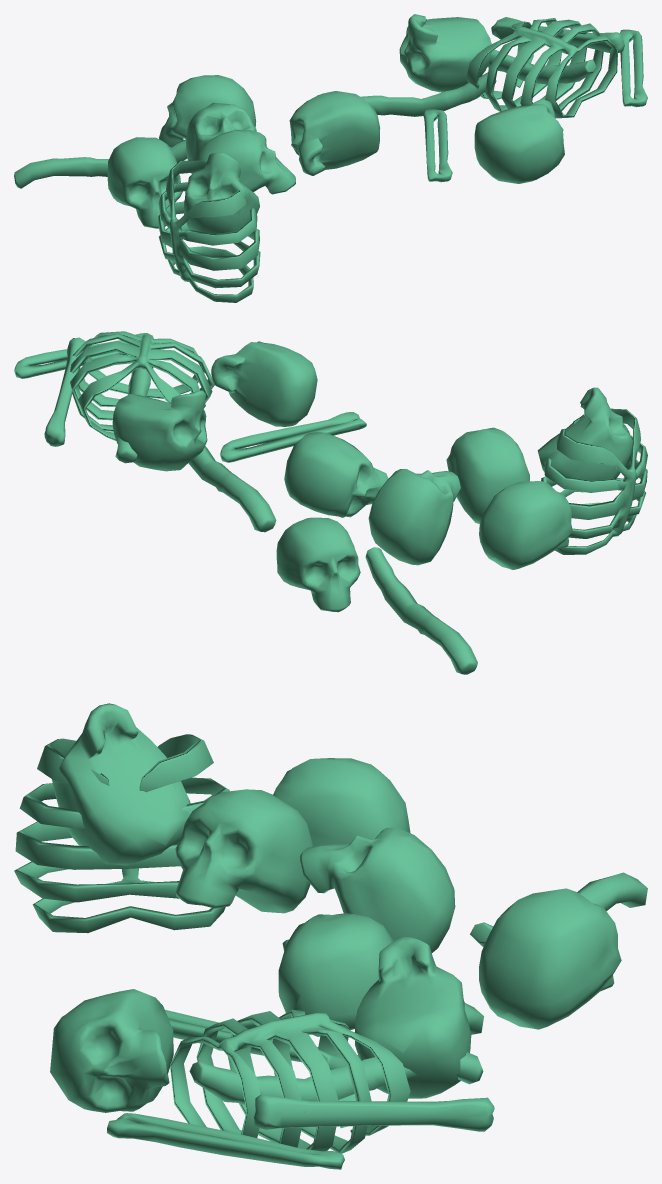
Rendered from Bones_Basket_02A_Lod0.fbx.
3 renders of one model, top to bottom at view 1: azimuth 30°, elevation 25°; view 2: azimuth 150°, elevation 25°; view 3: azimuth 270°, elevation 25°, orthographic. The views are drawn at different scales.
Parts seen in each view (by area): view 1: Bones_Basket_02A_Lod0; view 2: Bones_Basket_02A_Lod0; view 3: Bones_Basket_02A_Lod0.
Part boxes in pixels (x1,y1,x2,y2): Bones_Basket_02A_Lod0: [14, 14, 647, 302]; Bones_Basket_02A_Lod0: [14, 331, 647, 674]; Bones_Basket_02A_Lod0: [14, 703, 647, 1169].
Bounding box in the file's own units: 120 × 31.06 × 76.36.
